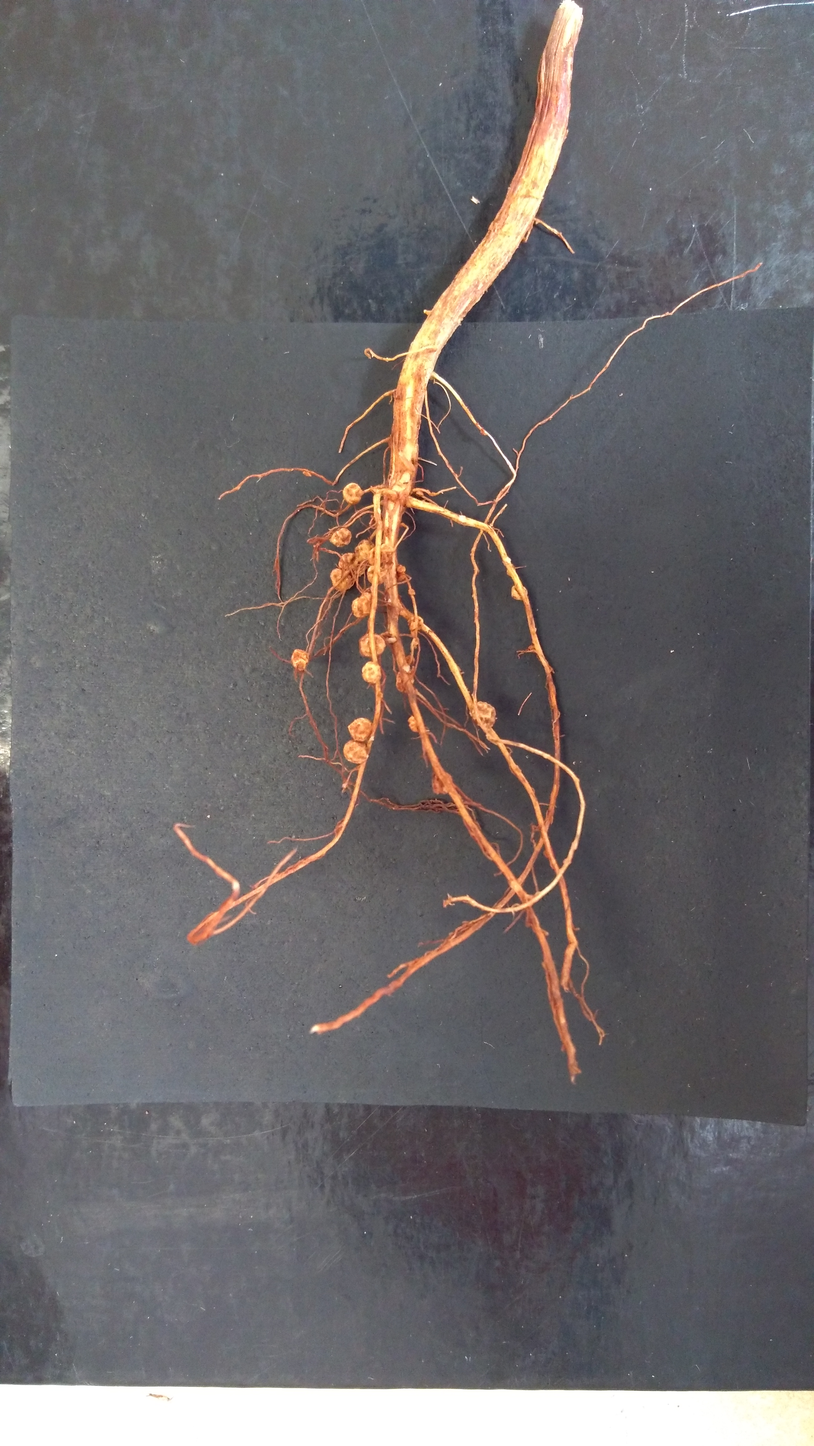nodule: (470, 701, 496, 727), (359, 634, 386, 657), (344, 739, 367, 764), (348, 718, 372, 741), (430, 771, 452, 795), (395, 665, 414, 692), (331, 568, 352, 592), (355, 539, 375, 563), (343, 483, 363, 504), (362, 661, 381, 683), (330, 528, 352, 547), (368, 546, 387, 568), (352, 597, 371, 618), (292, 649, 309, 671), (338, 553, 358, 570), (368, 565, 382, 584), (408, 616, 424, 632), (378, 631, 397, 644), (408, 716, 423, 732), (511, 586, 527, 600), (354, 563, 367, 576), (380, 543, 394, 552), (405, 655, 415, 666), (414, 488, 424, 497), (397, 573, 407, 581), (397, 565, 405, 573), (364, 592, 371, 601), (413, 637, 418, 648), (407, 589, 415, 595)
